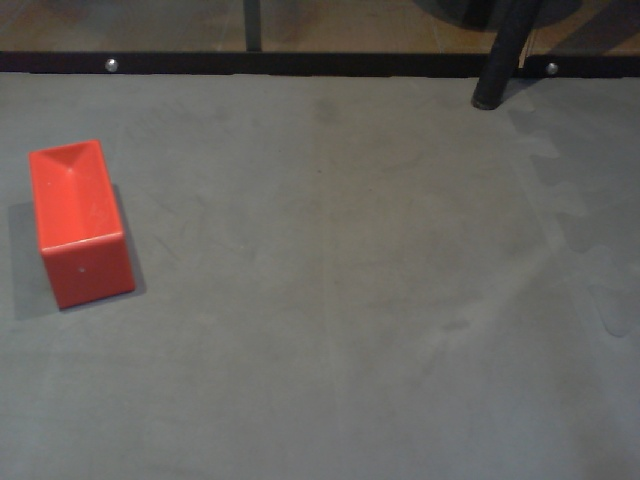RedSample: (27, 138, 139, 312)
